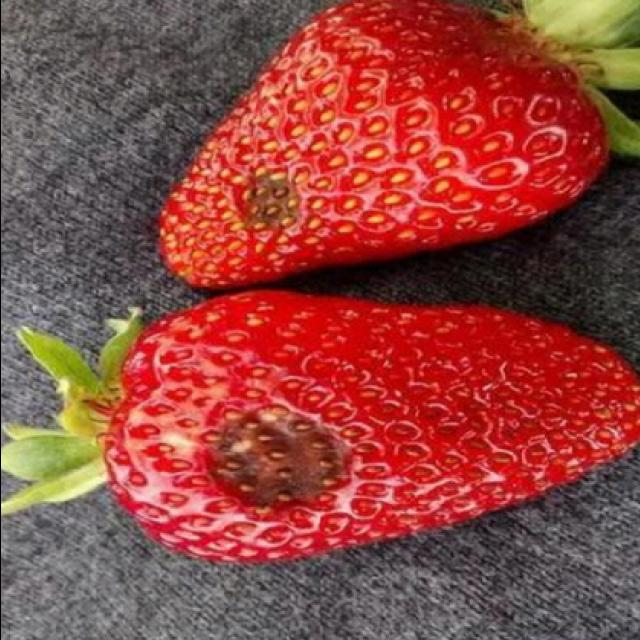Anthracnose Fruit Rot: (198, 396, 352, 524), (237, 154, 305, 240)
